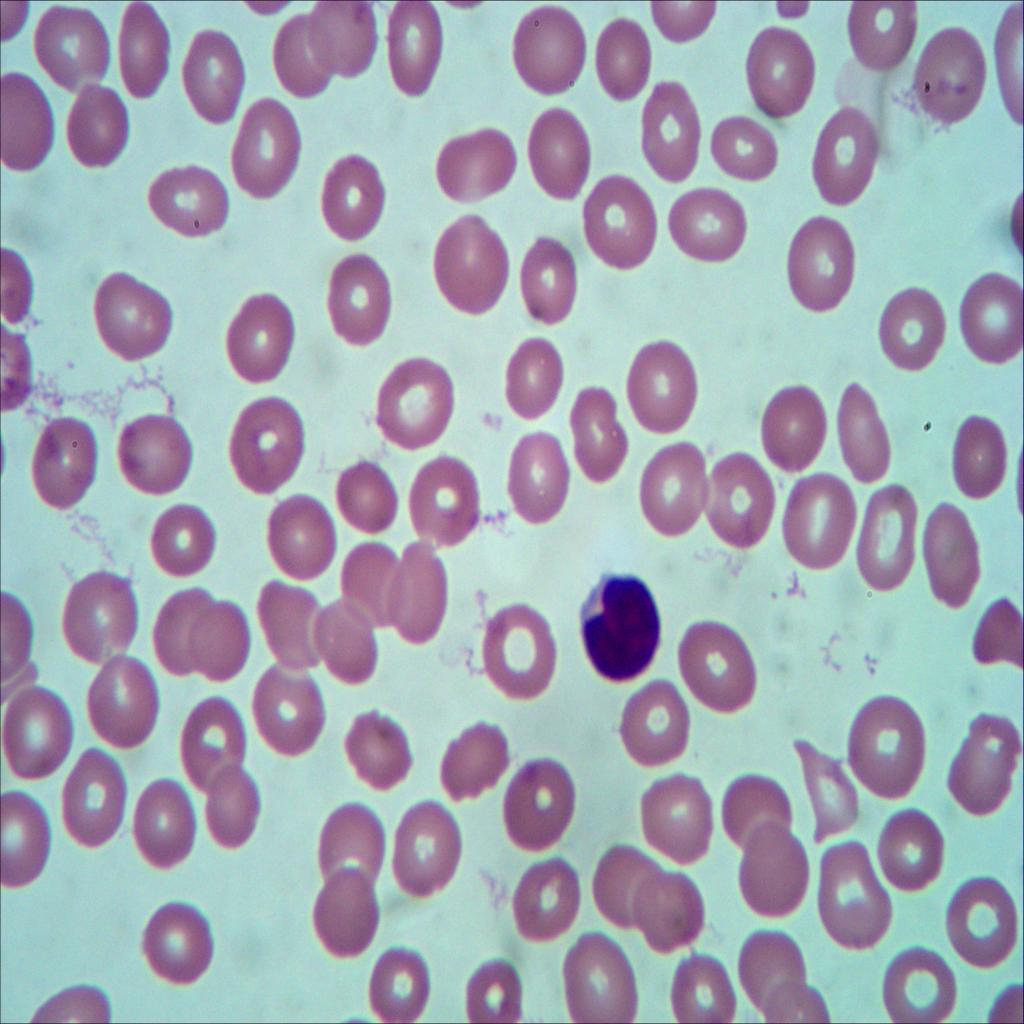Eritrosit: (660, 610, 762, 718), (128, 886, 222, 992), (840, 685, 928, 798), (226, 87, 305, 211), (737, 19, 834, 117), (630, 764, 721, 868), (224, 390, 312, 496), (942, 701, 1024, 814), (496, 0, 588, 100), (776, 206, 860, 314), (812, 832, 890, 948), (89, 266, 181, 364), (220, 281, 302, 390), (109, 409, 201, 506), (852, 471, 925, 593), (472, 595, 557, 699), (429, 208, 510, 317), (910, 17, 990, 127), (60, 742, 134, 860), (373, 358, 460, 458), (634, 71, 707, 190), (580, 164, 663, 268), (171, 21, 248, 133), (353, 922, 438, 1022), (608, 678, 702, 768), (550, 381, 631, 485), (20, 416, 104, 516), (264, 6, 344, 111), (774, 468, 857, 568), (298, 793, 384, 889), (793, 742, 873, 845), (88, 650, 166, 755), (915, 492, 982, 614), (670, 178, 755, 274), (584, 834, 669, 930), (811, 108, 882, 222), (736, 804, 810, 913), (620, 335, 704, 431), (384, 541, 451, 661), (504, 223, 585, 322), (429, 116, 518, 206), (505, 853, 592, 945), (333, 693, 410, 796), (104, 0, 178, 106), (558, 926, 638, 1024), (58, 569, 146, 658), (138, 158, 230, 243), (380, 798, 460, 894), (60, 83, 142, 176), (874, 282, 952, 379), (952, 271, 1024, 376), (702, 454, 776, 556), (734, 924, 816, 1016), (499, 750, 572, 853), (499, 426, 573, 526), (268, 490, 344, 587), (0, 688, 76, 785), (309, 598, 381, 698), (320, 249, 392, 349), (0, 64, 59, 186), (34, 6, 112, 98), (126, 772, 196, 874), (253, 663, 324, 763), (250, 571, 320, 672), (148, 585, 220, 683), (634, 448, 712, 538), (517, 110, 593, 202), (307, 864, 386, 952), (498, 331, 566, 433), (410, 454, 480, 550), (886, 940, 966, 1024), (626, 861, 704, 947), (320, 151, 392, 244), (306, 0, 382, 87), (875, 804, 946, 897), (587, 16, 660, 106), (182, 695, 247, 796), (382, 0, 444, 105), (840, 384, 899, 494), (932, 403, 1002, 495), (758, 379, 828, 471), (327, 533, 400, 620), (944, 872, 1013, 963), (0, 794, 59, 900), (196, 760, 262, 853), (843, 0, 921, 78), (717, 766, 792, 847), (146, 509, 224, 584), (667, 943, 737, 1024), (444, 712, 508, 799), (192, 598, 256, 682), (338, 452, 404, 533), (704, 116, 773, 193), (455, 948, 524, 1024), (963, 582, 1024, 664)
Limfoblast: (575, 564, 666, 693)
